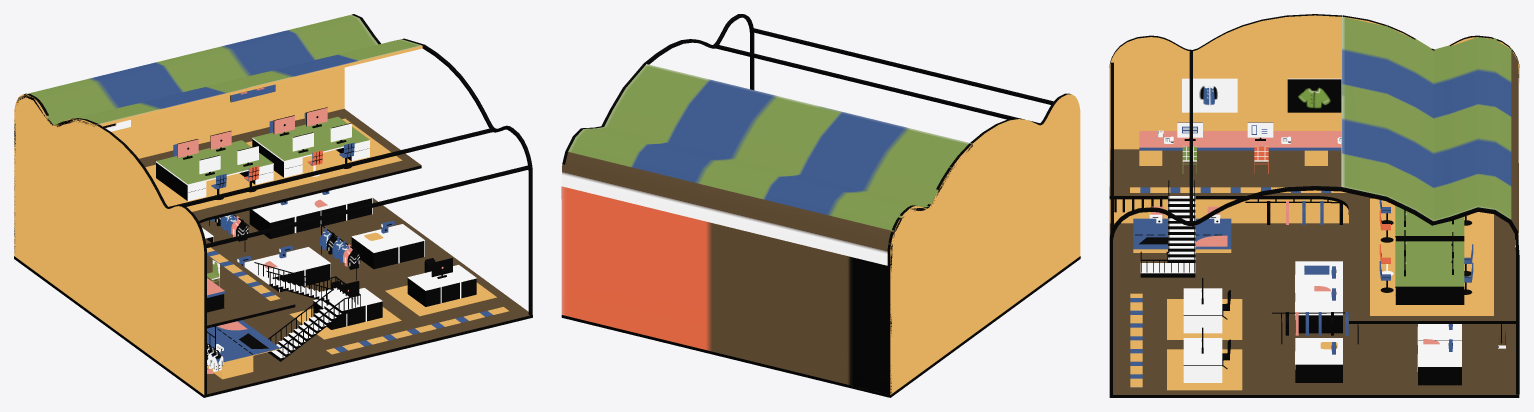
Rendered from 服装厂.fbx.
3 renders of one model, left to right at view 1: azimuth 30°, elevation 25°; view 2: azimuth 150°, elevation 25°; view 3: azimuth 270°, elevation 25°, orthographic. The views are drawn at different scales.
Visible parts, largest first — view 1: stairs2_2_1, 立方体, 桌子_3, 桌子, table_2, 桌子_8, 桌子_5, 桌子_7, 桌子_6, 桌子_9, 立方体_2_5, 注意标志_1 (+3 smaller); view 2: stairs2_2_1; view 3: stairs2_2_1, 立方体, table_2, table_2_4, 桌子_5, 桌子_3, 桌子_8, 桌子_7, 立方体_1, 立方体_2_2, 立方体_2_5, 桌子_9 (+7 smaller).
Part boxes in pixels (x1,y1,x2,y2): stairs2_2_1: [14, 14, 532, 397]; 立方体: [145, 118, 402, 211]; 桌子_3: [249, 184, 372, 238]; 桌子: [156, 140, 273, 201]; table_2: [252, 116, 370, 177]; 桌子_8: [351, 224, 424, 269]; 桌子_5: [244, 247, 330, 292]; 桌子_7: [207, 320, 280, 379]; 桌子_6: [407, 264, 476, 306]; 桌子_9: [313, 288, 382, 329]; 立方体_2_5: [385, 282, 496, 316]; 注意标志_1: [326, 307, 508, 354]; stairs2_2_1: [561, 14, 1080, 397]; stairs2_2_1: [1109, 14, 1519, 397]; 立方体: [1370, 198, 1493, 315]; table_2: [1395, 241, 1464, 304]; table_2_4: [1139, 131, 1341, 165]; 桌子_5: [1295, 261, 1342, 333]; 桌子_3: [1417, 324, 1461, 385]; 桌子_8: [1295, 338, 1342, 382]; 桌子_7: [1133, 218, 1231, 252]; 立方体_1: [1287, 78, 1341, 112]; 立方体_2_2: [1182, 78, 1237, 112]; 立方体_2_5: [1167, 349, 1242, 390]; 桌子_9: [1183, 288, 1222, 333].
Size of the model in its own units: 1800 by 1021 by 1801.
